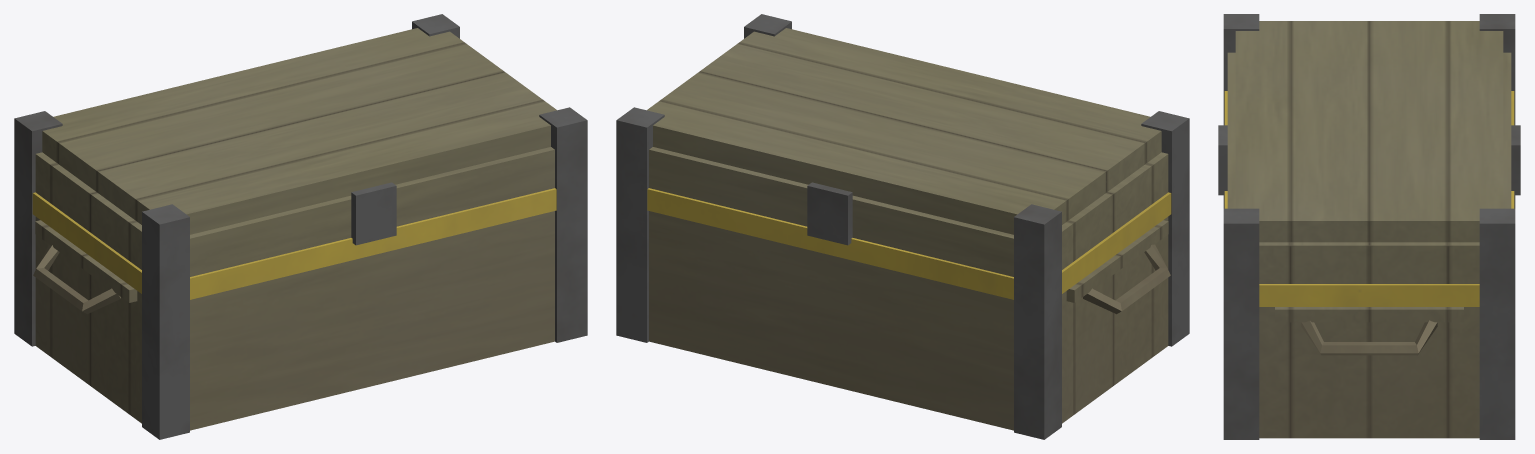
Rendered from ammo_crate.glb.
3 views of the same model, side by side, from view 1: azimuth 30°, elevation 25°; view 2: azimuth 150°, elevation 25°; view 3: azimuth 270°, elevation 25° (orthographic).
Visible parts, largest first — view 1: crate; view 2: crate; view 3: crate.
Part boxes in pixels (x1,y1,x2,y2): crate: [14, 14, 587, 439]; crate: [616, 14, 1189, 439]; crate: [1218, 14, 1520, 439].
Bounding box in the file's own units: 0.7166 × 0.303 × 0.384.
Materials: 1 (1 with a texture image).
